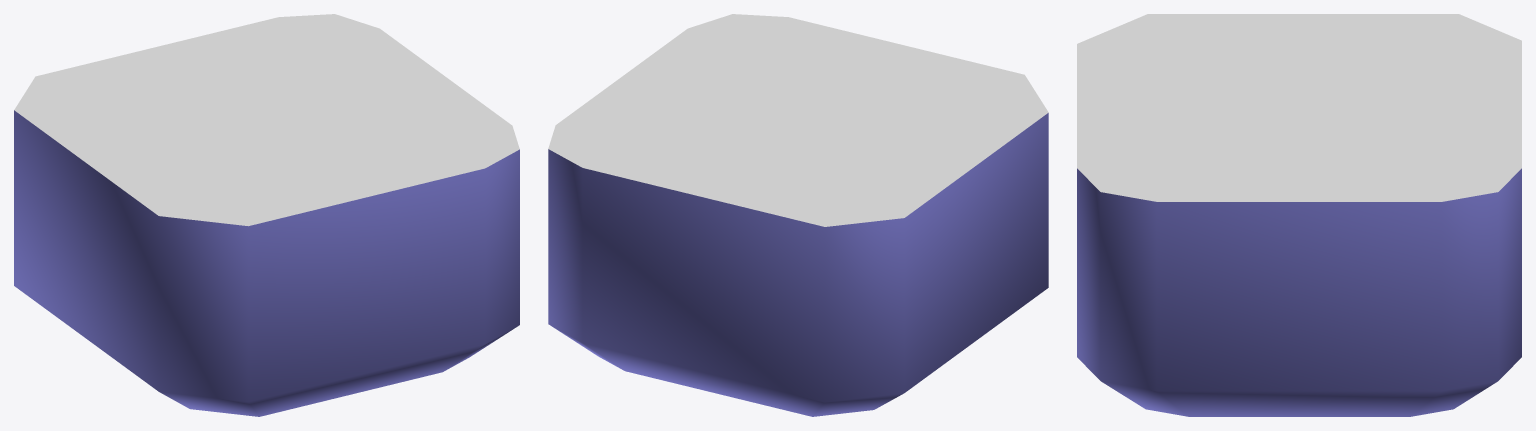
Rendered from PlatformVine.fbx.
3 views of the same model, side by side, from view 1: azimuth 30°, elevation 25°; view 2: azimuth 150°, elevation 25°; view 3: azimuth 270°, elevation 25° (orthographic). The views are drawn at different scales.
Parts seen in each view (by area): view 1: PlatformVineMesh; view 2: PlatformVineMesh; view 3: PlatformVineMesh.
Boxes of the visible parts, left/top/right/bottom form: PlatformVineMesh: left=14, top=14, right=519, bottom=416; PlatformVineMesh: left=548, top=14, right=1048, bottom=416; PlatformVineMesh: left=1077, top=14, right=1521, bottom=416.
Bounding box in the file's own units: 95.95 × 55.41 × 95.95.
